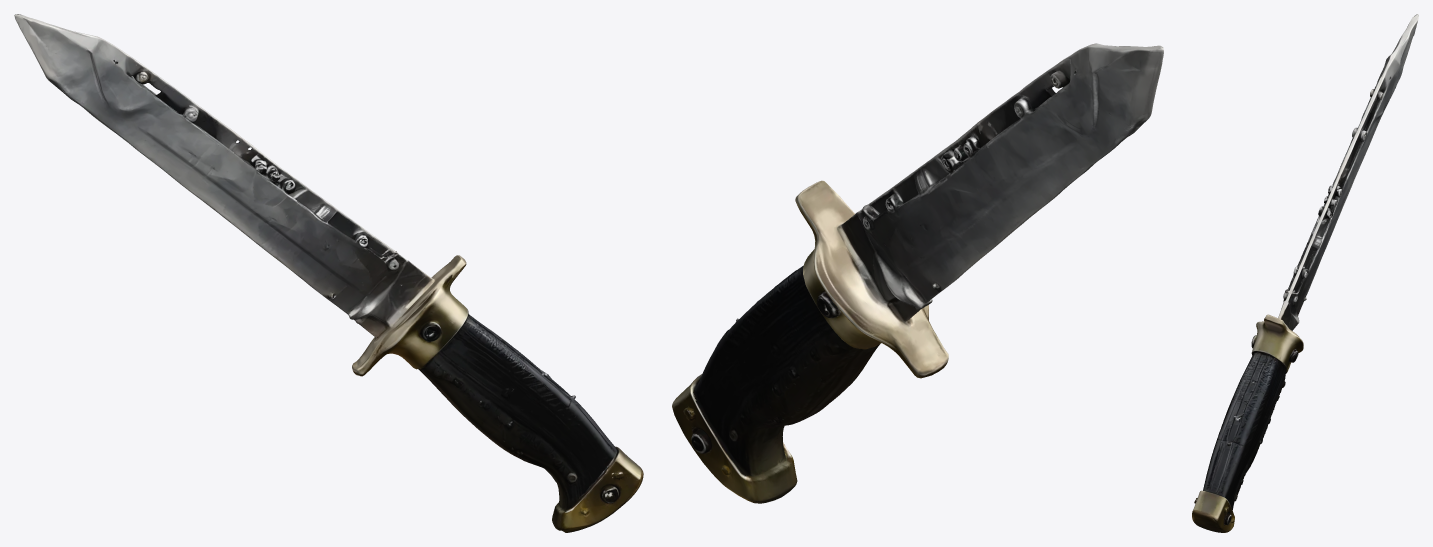
Rendered from rn_slasher.glb.
3 views of the same model, side by side, from view 1: azimuth 30°, elevation 25°; view 2: azimuth 150°, elevation 25°; view 3: azimuth 270°, elevation 25° (orthographic). The views are drawn at different scales.
Parts seen in each view (by area): view 1: tripo_node_b20a93f1-3642-4e8d-9d99-e6206f2d585b; view 2: tripo_node_b20a93f1-3642-4e8d-9d99-e6206f2d585b; view 3: tripo_node_b20a93f1-3642-4e8d-9d99-e6206f2d585b.
Part boxes in pixels (left/top/right/bottom): tripo_node_b20a93f1-3642-4e8d-9d99-e6206f2d585b: left=14, top=14, right=643, bottom=532; tripo_node_b20a93f1-3642-4e8d-9d99-e6206f2d585b: left=672, top=43, right=1163, bottom=503; tripo_node_b20a93f1-3642-4e8d-9d99-e6206f2d585b: left=1192, top=14, right=1418, bottom=532.
Size of the model in its own units: 0.9608 by 0.9804 by 0.5451.
1 material, 1 textured.
